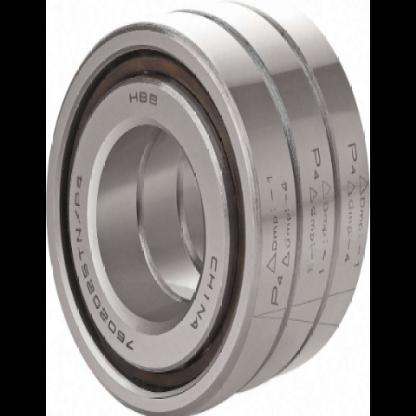FOD: (46, 8, 301, 415)
